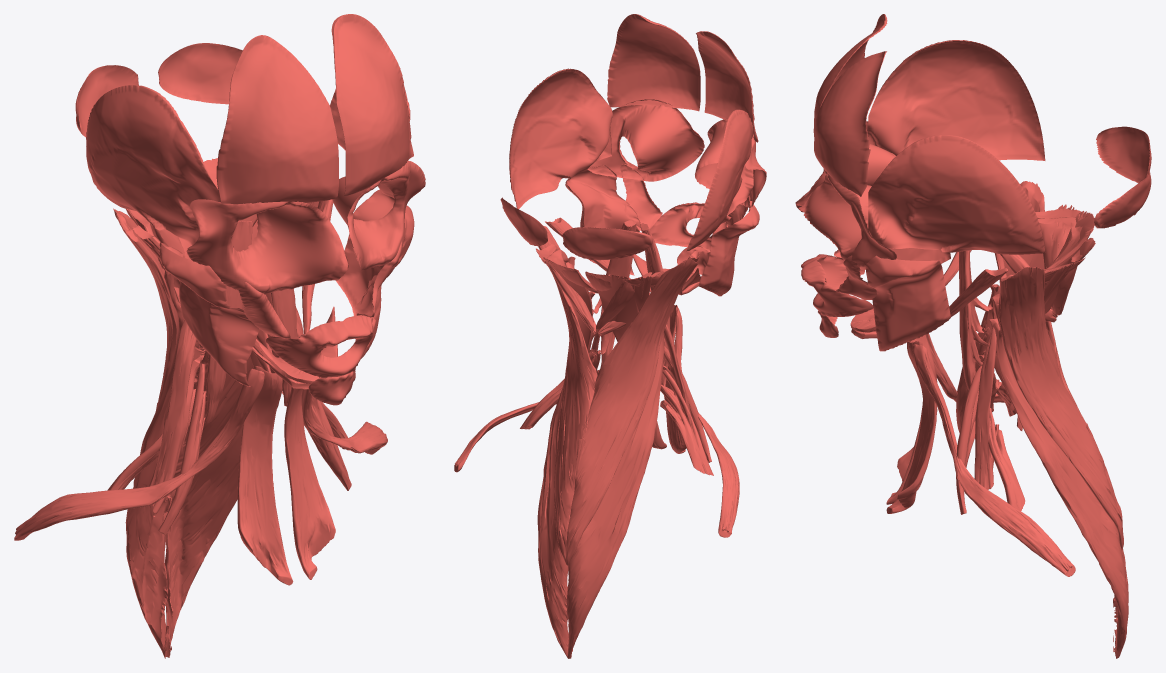
Rendered from head-neck.glb.
3 renders of one model, left to right at view 1: azimuth 30°, elevation 25°; view 2: azimuth 150°, elevation 25°; view 3: azimuth 270°, elevation 25°, orthographic. The views are drawn at different scales.
Visible parts, largest first — view 1: openhealth:frontalis:right:approx, openhealth:temporalis:right:approx, openhealth:orbicularis-oculi:right:approx, openhealth:frontalis:left:approx, openhealth:splenius-cervicis:left:isa:FJ1546M, openhealth:sternohyoid:right:isa:FJ1596, openhealth:splenius-cervicis:right:isa:FJ1546, openhealth:masseter:right:approx, openhealth:omohyoid:right:isa:FJ1586, openhealth:sternohyoid:left:isa:FJ1574, openhealth:orbicularis-oculi:left:approx, openhealth:orbicularis-oris:none:approx (+18 smaller); view 2: openhealth:splenius-capitis:right:isa:FJ1545, openhealth:temporalis:left:approx, openhealth:splenius-cervicis:right:isa:FJ1546, openhealth:frontalis:left:approx, openhealth:orbicularis-oculi:left:approx, openhealth:splenius-capitis:left:isa:FJ1545M, openhealth:splenius-cervicis:left:isa:FJ1546M, openhealth:temporalis:right:approx, openhealth:frontalis:right:approx, openhealth:masseter:left:approx, openhealth:occipitalis:right:approx, openhealth:masseter:right:approx (+17 smaller); view 3: openhealth:temporalis:left:approx, openhealth:temporalis:right:approx, openhealth:splenius-capitis:left:isa:FJ1545M, openhealth:splenius-cervicis:left:isa:FJ1546M, openhealth:frontalis:left:approx, openhealth:masseter:left:approx, openhealth:omohyoid:left:isa:FJ1565, openhealth:orbicularis-oculi:left:approx, openhealth:orbicularis-oris:none:approx, openhealth:occipitalis:right:approx, openhealth:scalenus-medius:left:isa:FJ1571, openhealth:sternohyoid:left:isa:FJ1574 (+19 smaller).
Boxes of the visible parts, <box> form: openhealth:frontalis:right:approx: <box>216,35,338,204</box>; openhealth:temporalis:right:approx: <box>86,85,220,245</box>; openhealth:orbicularis-oculi:right:approx: <box>186,199,348,294</box>; openhealth:frontalis:left:approx: <box>331,14,413,195</box>; openhealth:splenius-cervicis:left:isa:FJ1546M: <box>165,336,282,657</box>; openhealth:sternohyoid:right:isa:FJ1596: <box>237,366,293,585</box>; openhealth:splenius-cervicis:right:isa:FJ1546: <box>125,270,192,658</box>; openhealth:masseter:right:approx: <box>159,242,259,386</box>; openhealth:omohyoid:right:isa:FJ1586: <box>14,368,264,540</box>; openhealth:sternohyoid:left:isa:FJ1574: <box>284,386,335,579</box>; openhealth:orbicularis-oculi:left:approx: <box>332,160,425,270</box>; openhealth:orbicularis-oris:none:approx: <box>266,313,375,378</box>; openhealth:splenius-capitis:right:isa:FJ1545: <box>566,258,697,565</box>; openhealth:temporalis:left:approx: <box>509,68,612,209</box>; openhealth:splenius-cervicis:right:isa:FJ1546: <box>566,333,664,658</box>; openhealth:frontalis:left:approx: <box>607,14,700,111</box>; openhealth:orbicularis-oculi:left:approx: <box>587,99,704,181</box>; openhealth:splenius-capitis:left:isa:FJ1545M: <box>538,226,597,564</box>; openhealth:splenius-cervicis:left:isa:FJ1546M: <box>537,256,592,658</box>; openhealth:temporalis:right:approx: <box>686,109,753,251</box>; openhealth:frontalis:right:approx: <box>696,31,758,142</box>; openhealth:masseter:left:approx: <box>565,165,640,275</box>; openhealth:occipitalis:right:approx: <box>562,227,653,260</box>; openhealth:masseter:right:approx: <box>698,200,759,296</box>; openhealth:temporalis:left:approx: <box>868,134,1045,254</box>; openhealth:temporalis:right:approx: <box>868,40,1045,160</box>; openhealth:splenius-capitis:left:isa:FJ1545M: <box>998,267,1123,549</box>; openhealth:splenius-cervicis:left:isa:FJ1546M: <box>989,294,1128,658</box>; openhealth:frontalis:left:approx: <box>814,51,886,196</box>; openhealth:masseter:left:approx: <box>865,255,950,351</box>; openhealth:omohyoid:left:isa:FJ1565: <box>912,344,1075,576</box>; openhealth:orbicularis-oculi:left:approx: <box>803,170,896,266</box>; openhealth:orbicularis-oris:none:approx: <box>801,254,873,316</box>; openhealth:occipitalis:right:approx: <box>1096,126,1151,182</box>; openhealth:scalenus-medius:left:isa:FJ1571: <box>974,318,999,489</box>; openhealth:sternohyoid:left:isa:FJ1574: <box>886,341,937,513</box>.
Size of the model in its own units: 0.2104 by 0.4047 by 0.2095.
